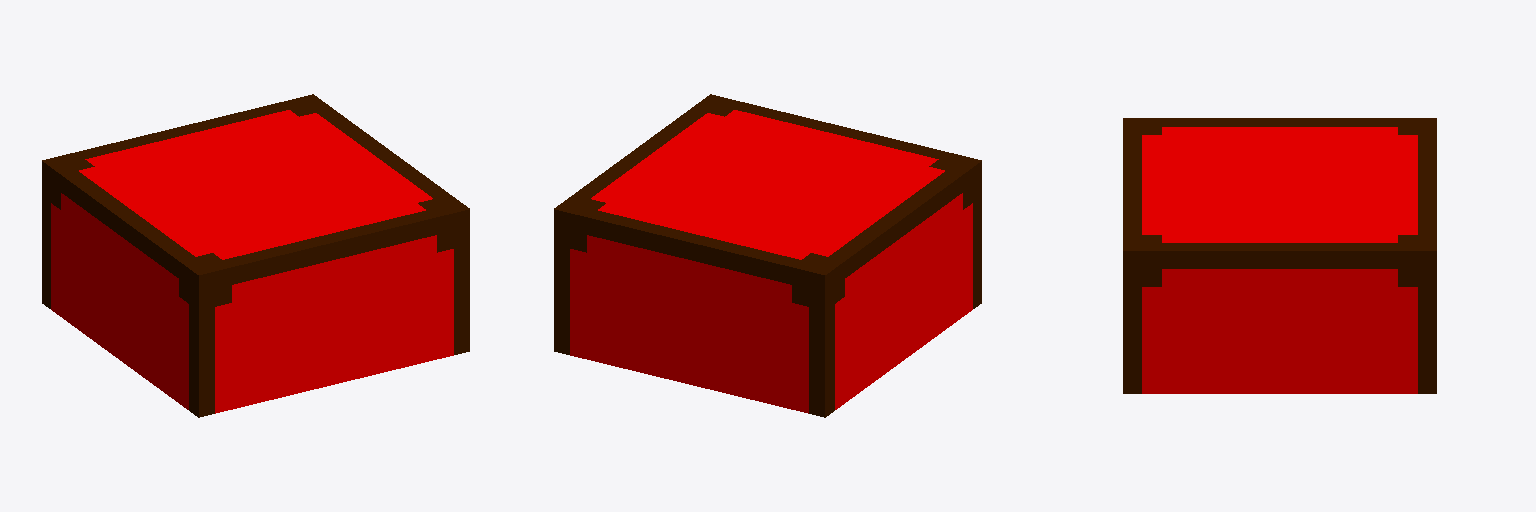
3 renders of one model, left to right at view 1: azimuth 30°, elevation 25°; view 2: azimuth 150°, elevation 25°; view 3: azimuth 270°, elevation 25°, orthographic.
Parts seen in each view (by area): view 1: 1_red; view 2: 1_red; view 3: 1_red.
Boxes of the visible parts, x1,y1,x2,y2 form: 1_red: [42, 94, 469, 417]; 1_red: [554, 94, 981, 417]; 1_red: [1123, 118, 1436, 393].
Size of the model in its own units: 1 by 0.5 by 1.
1 materials, 1 textured.